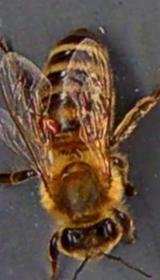varroa_mite: (38, 107, 64, 137)
